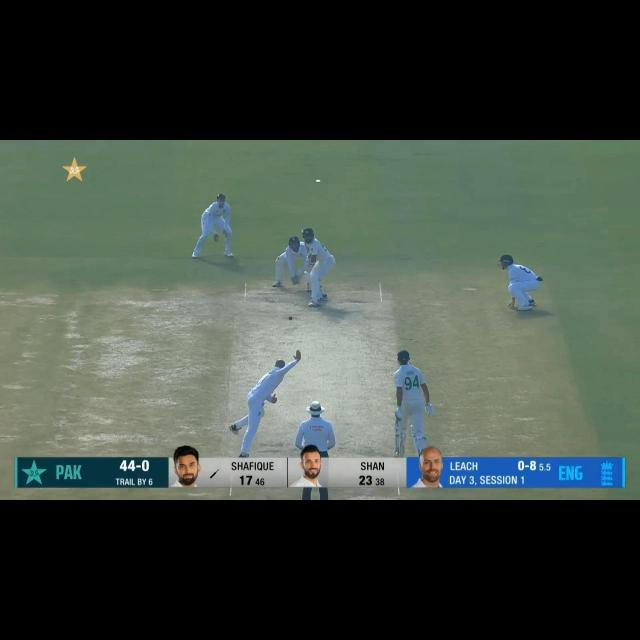bat: (394, 430, 402, 456)
toe: (301, 228, 304, 234)
